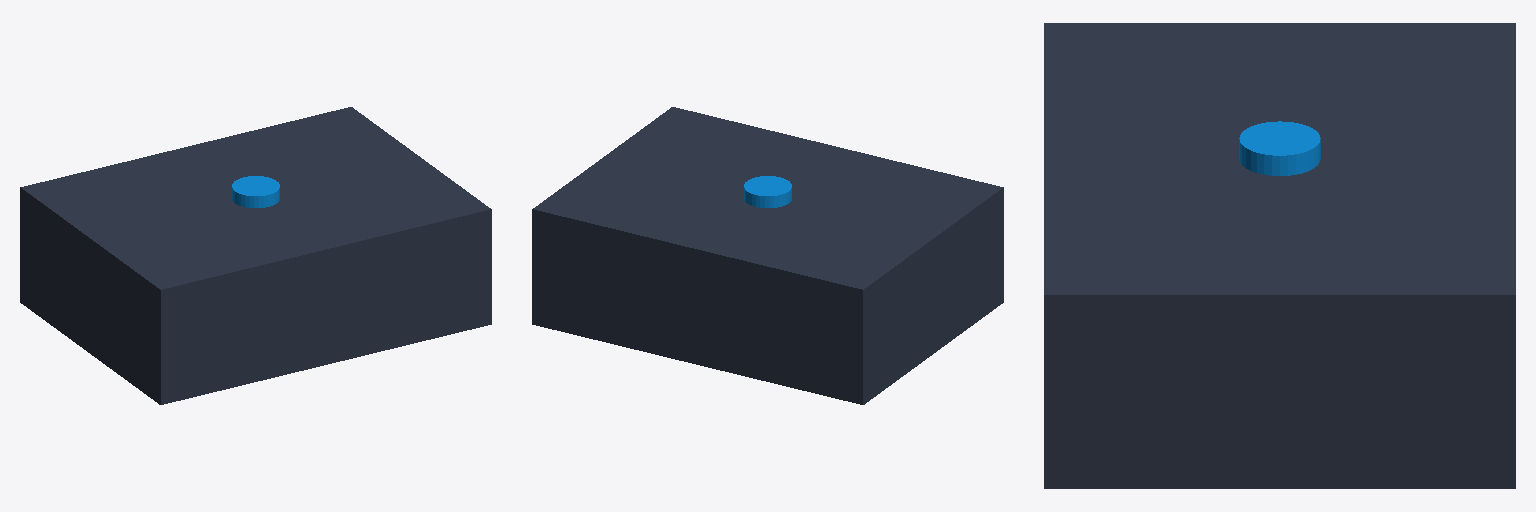
robot.urdf — lidarbot:
<?xml version="1.0"?>
<!-- lidar-bot.

     What SLAM actually cares about is the height of base_laser above the
     ground, i.e. base_joint z + laser_joint z. That was MEASURED at 133 mm,
     floor to the middle of the lidar's window, after the caster conversion.

         base_joint  0.040  (wheel radius - where the axle sits)
       + laser_joint 0.093
       = 0.133 m to the lidar plane

     If the wheels are not 80 mm, change base_joint to the real radius and take
     the same amount off laser_joint so the SUM stays at 0.133. Get the total
     wrong and every wall lands at the wrong distance, which smears the map.

     The chassis is nose-up ~6 mm from the caster, but the lidar was shimmed
     level against the ground, so rpy stays zero. -->
<robot name="lidarbot">

  <link name="base_footprint"/>

  <link name="base_link">
    <visual>
      <origin xyz="0 0 0.05"/>
      <geometry><box size="0.30 0.22 0.10"/></geometry>
      <material name="body"><color rgba="0.25 0.28 0.35 1"/></material>
    </visual>
    <collision>
      <origin xyz="0 0 0.05"/>
      <geometry><box size="0.30 0.22 0.10"/></geometry>
    </collision>
  </link>

  <joint name="base_joint" type="fixed">
    <parent link="base_footprint"/>
    <child link="base_link"/>
    <origin xyz="0 0 0.040"/>   <!-- wheel radius: 80 mm wheel = 0.040 -->
  </joint>

  <link name="imu_link"/>
  <joint name="imu_joint" type="fixed">
    <parent link="base_link"/>
    <child link="imu_link"/>
    <origin xyz="0 0 0.06"/>
  </joint>

  <!-- LIDAR: set xyz to the sensor's optical centre relative to base_link,
       and rpy yaw to however it is rotated on the mast. -->
  <link name="base_laser">
    <visual>
      <geometry><cylinder radius="0.019" length="0.035"/></geometry>
      <material name="lidar"><color rgba="0.1 0.6 0.9 1"/></material>
    </visual>
  </link>
  <!-- Camera. Only the topic matters for the Image panel; these numbers
       matter if you ever want the view placed in the 3D scene, so measure
       them then. Placeholder: on the mast, just below the lidar. -->
  <link name="camera_link"/>
  <joint name="camera_joint" type="fixed">
    <parent link="base_link"/>
    <child link="camera_link"/>
    <origin xyz="0.10 0.0 0.070" rpy="0 0 0"/>
  </joint>

  <joint name="laser_joint" type="fixed">
    <parent link="base_link"/>
    <child link="base_laser"/>
    <!-- 0.133 m measured from the floor, minus the 0.040 m base_joint -->
    <origin xyz="0.0 0.0 0.093" rpy="0 0 0"/>
  </joint>

</robot>

--- Render facts (derived) ---
The picture shows the robot from 3 angles, left to right: view 1: azimuth 30°, elevation 25°; view 2: azimuth 150°, elevation 25°; view 3: azimuth 270°, elevation 25°; orthographic projection.
Model lidarbot with 5 links and 4 joints (4 fixed), rooted at base_footprint, posed every joint at zero.
Links seen in each view (by area): view 1: base_link, base_laser; view 2: base_link, base_laser; view 3: base_link, base_laser.
Boxes of the visible links, x1,y1,x2,y2 form: base_link: (20, 107, 491, 404); base_laser: (232, 176, 279, 207); base_link: (532, 107, 1003, 404); base_laser: (744, 176, 791, 207); base_link: (1044, 23, 1515, 488); base_laser: (1239, 121, 1320, 175).
Bounding box of the posed robot: 0.3 × 0.22 × 0.1105 m (x, y, z).
Geometry: primitives only (box / cylinder / sphere), no mesh files.
